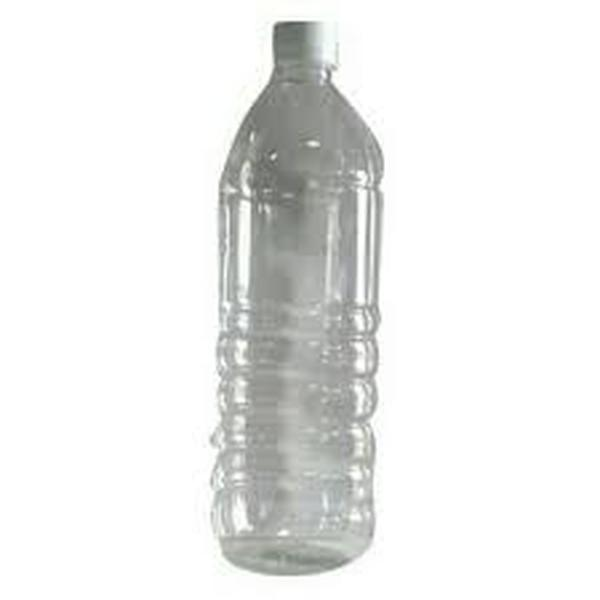tutuma: (203, 10, 392, 579)
